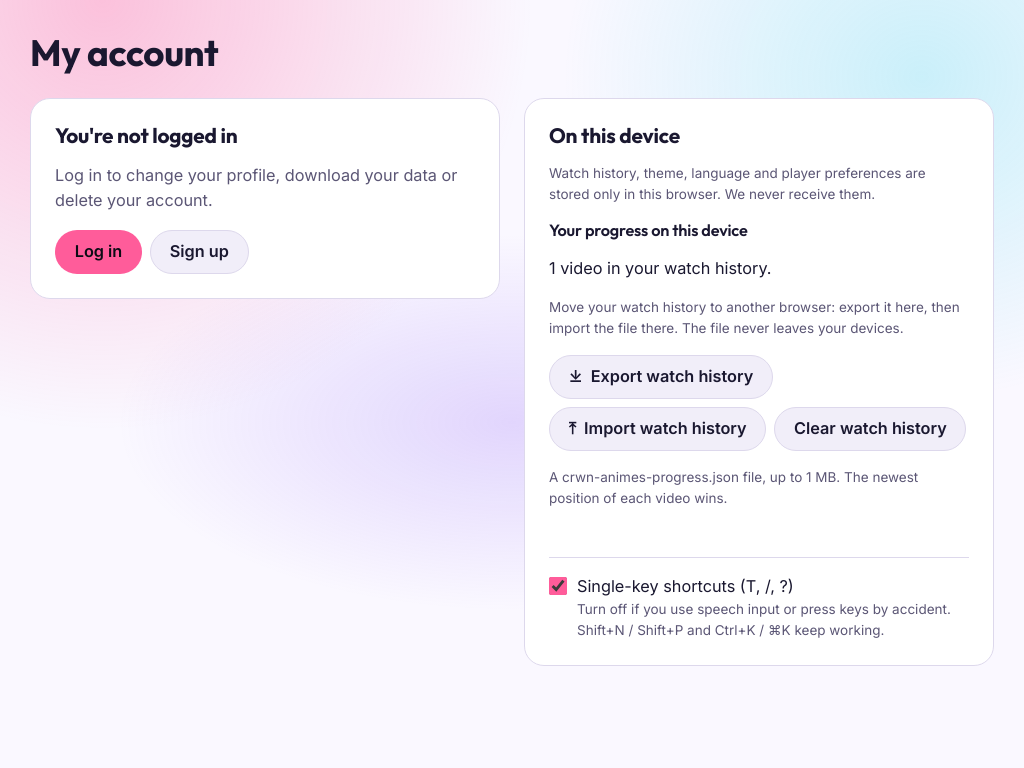
Test: Account — “Clear watch history” (v1.5) › still clears the history where Cache Storage does not exist
This screenshot has width=1024, height=768.
Click the button "Clear watch history" at (870,429), box [774, 407, 966, 451]
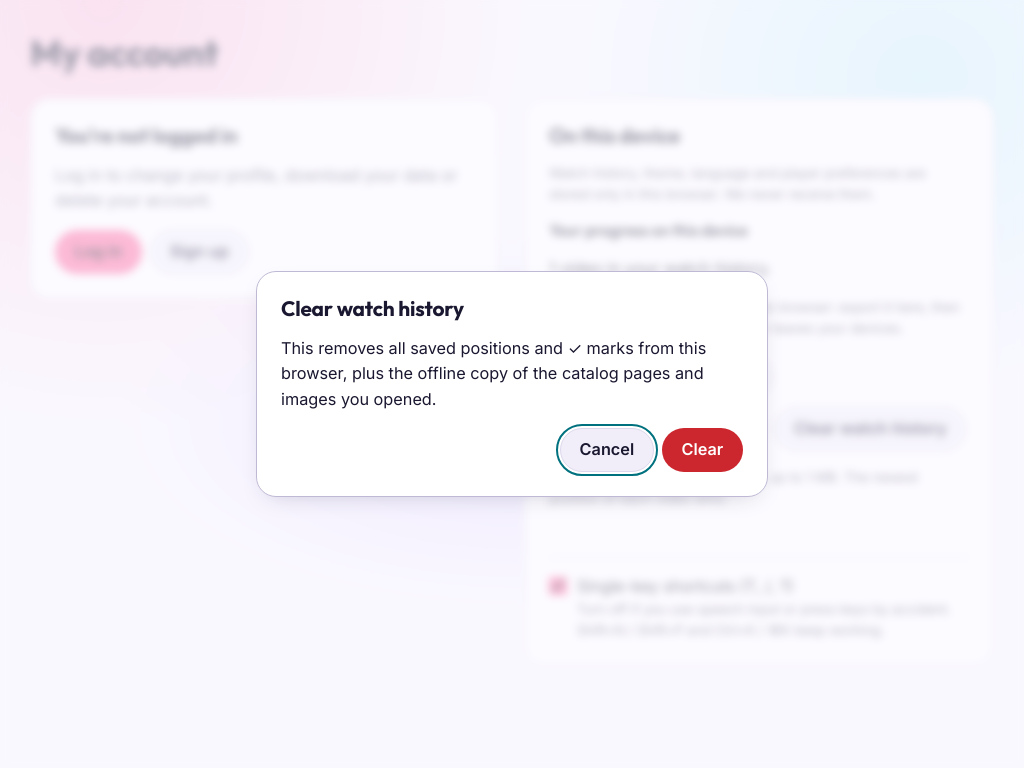
Click the button "Clear" at (702,450), box [662, 428, 743, 472]
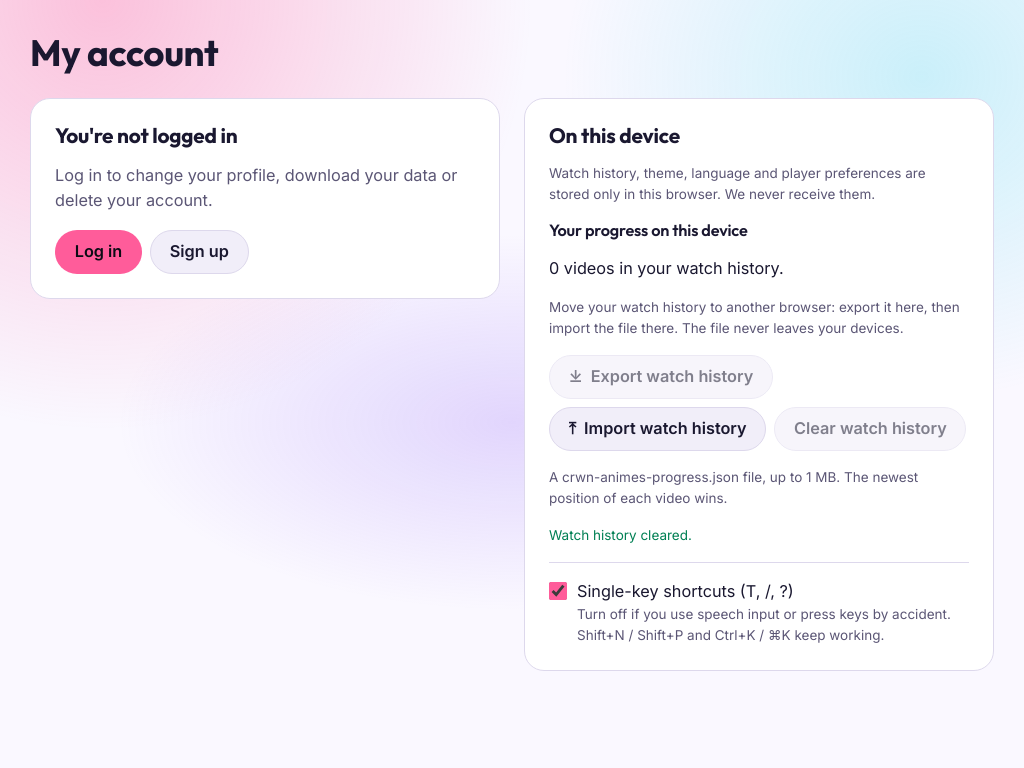
Expected: the message reads "Watch history cleared.", [549, 527, 692, 543]
